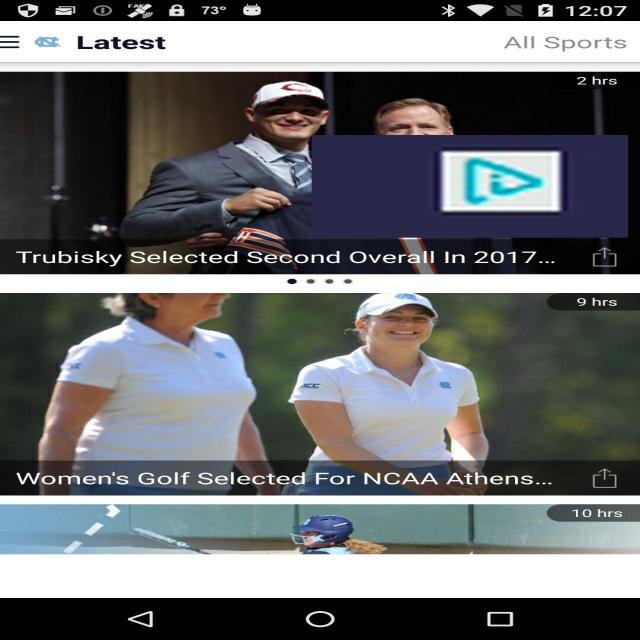sneaking: (312, 135, 628, 238)
